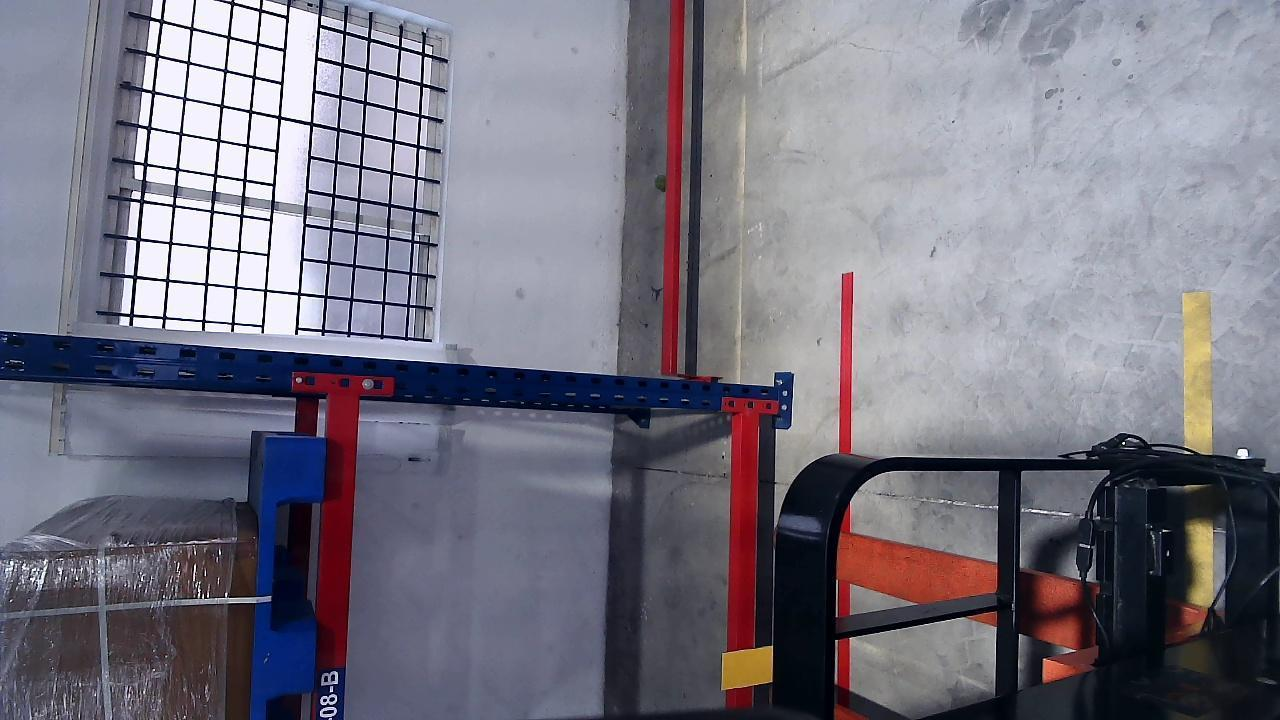red_line: (839, 271, 855, 720)
yellow_line: (1182, 292, 1214, 454)
